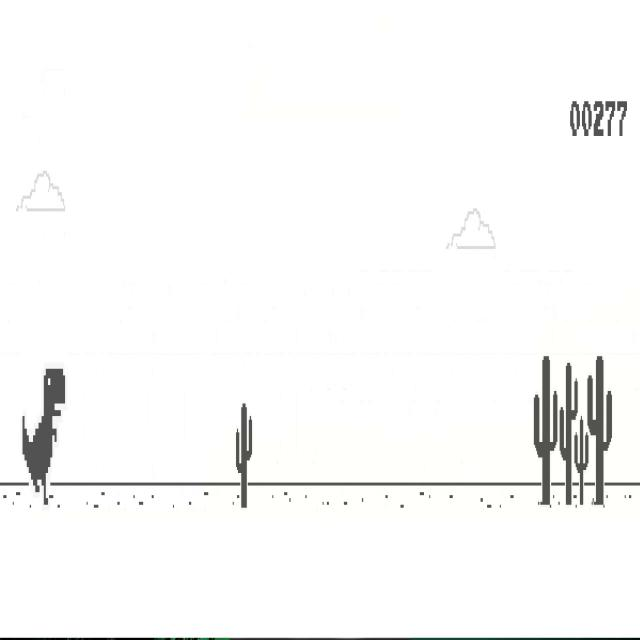cacto: (587, 354, 613, 507), (533, 354, 558, 507), (559, 361, 578, 507), (235, 402, 252, 509), (574, 416, 590, 507)
dino: (22, 368, 66, 507)
